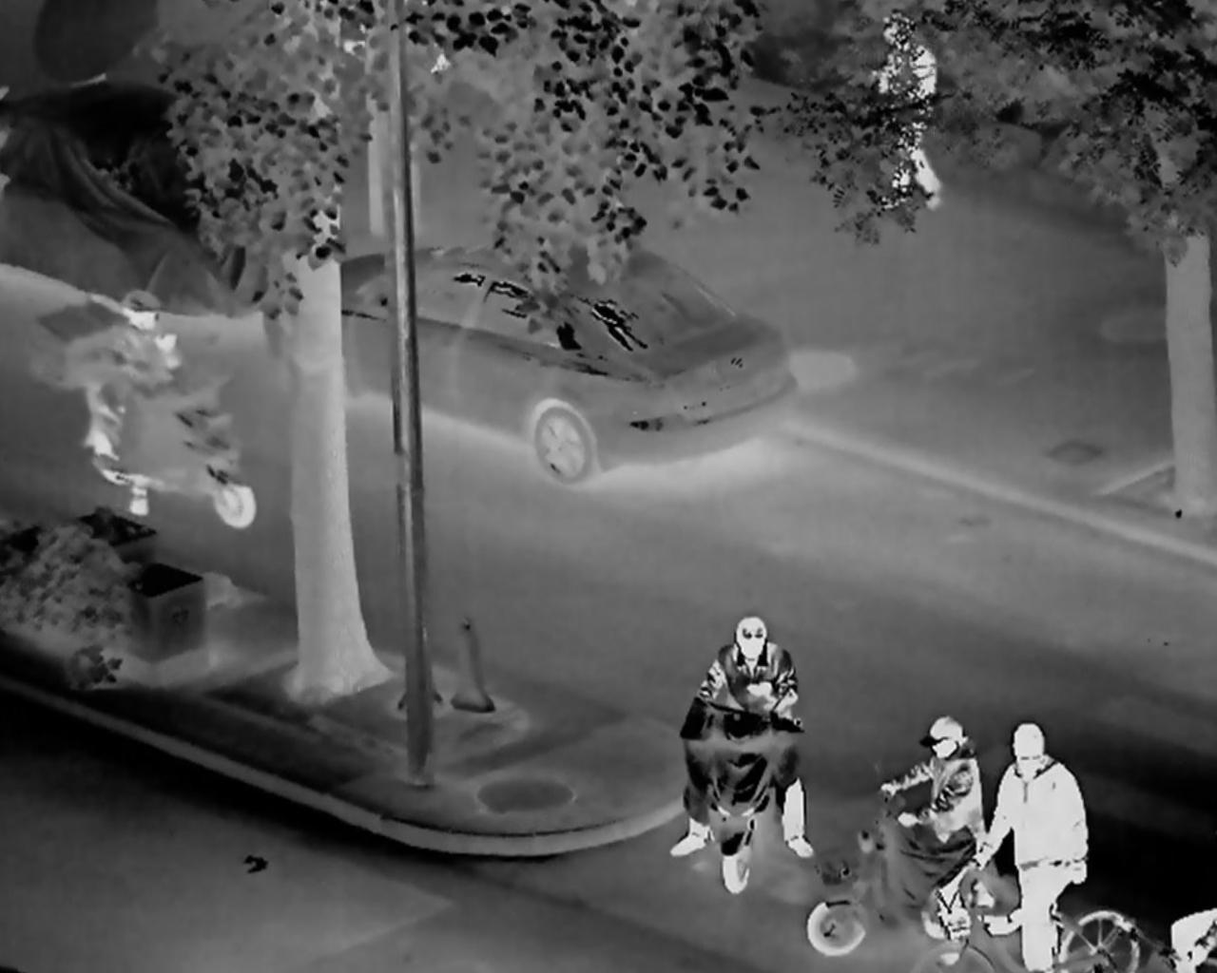person: (670, 597, 816, 862), (868, 704, 1005, 965), (980, 712, 1097, 973), (860, 9, 956, 219), (119, 288, 192, 525)
